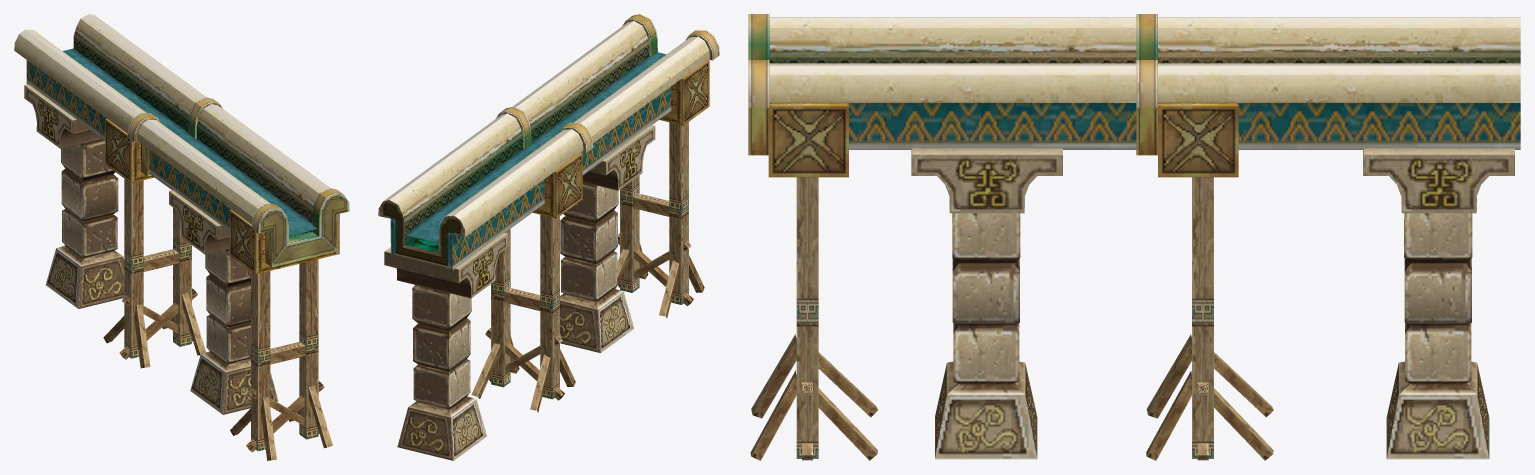
3 views of the same model, side by side, from view 1: azimuth 30°, elevation 25°; view 2: azimuth 150°, elevation 25°; view 3: azimuth 270°, elevation 25° (orthographic). The views are drawn at different scales.
Visible parts, largest first — view 1: geom_node_0; view 2: geom_node_0; view 3: geom_node_0.
Boxes of the visible parts, <box> form: geom_node_0: <box>14,14,349,460</box>; geom_node_0: <box>378,14,719,460</box>; geom_node_0: <box>748,14,1520,460</box>.
Size of the model in its own units: 1.5 by 4.02 by 7.03.
Materials: 3 (3 with a texture image).
